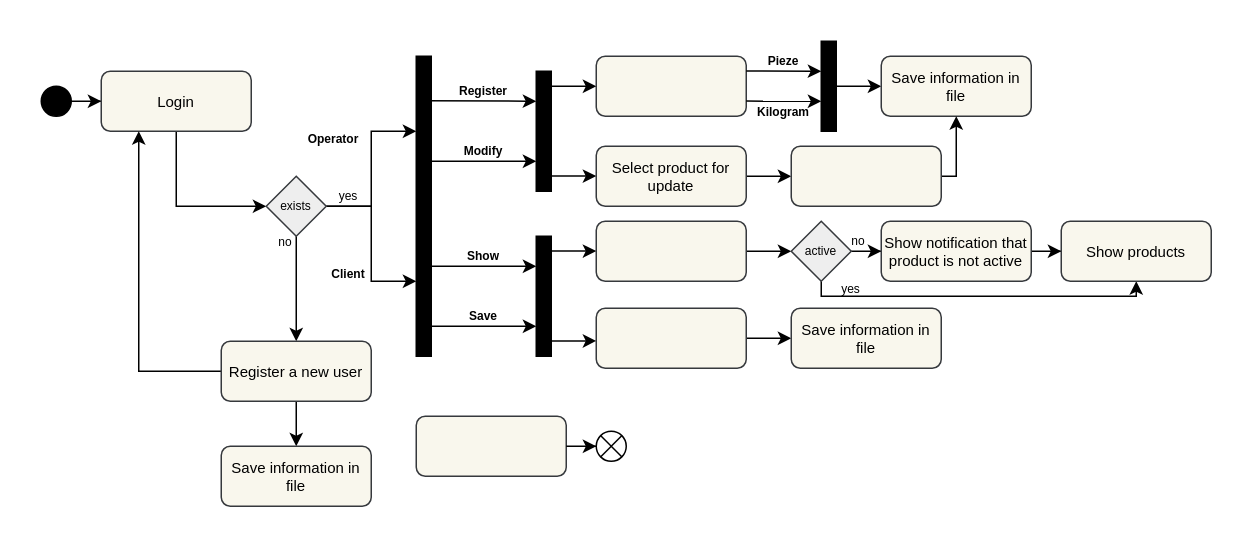
Image size: 1251x546. Some labels were removed from this diagram. The shapes that lost their labels are listed below. From the top down, each one's centre as x and y in pixels, then its label:
At point 670,85: "Imput information for product".
At point 865,175: "Update data of product".
At point 670,250: "Validate status of products".
At point 670,337: "Save product in car".
At point 490,445: "Application close".
